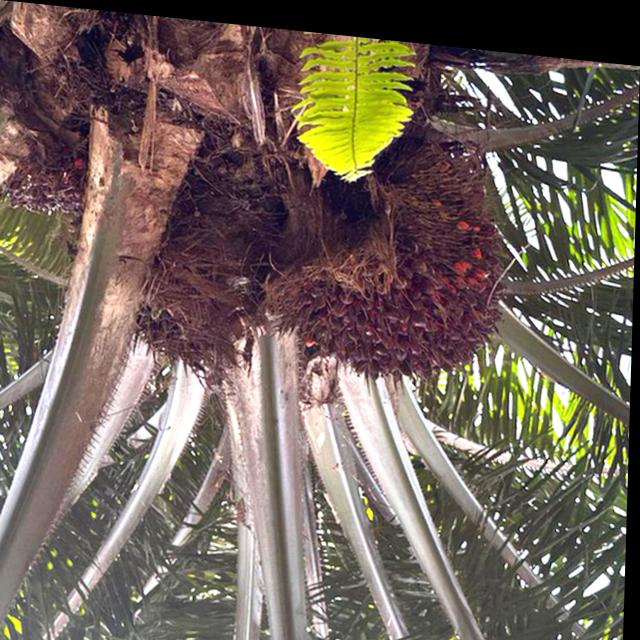ripe: (263, 137, 513, 391), (127, 275, 253, 393), (5, 127, 95, 229)
